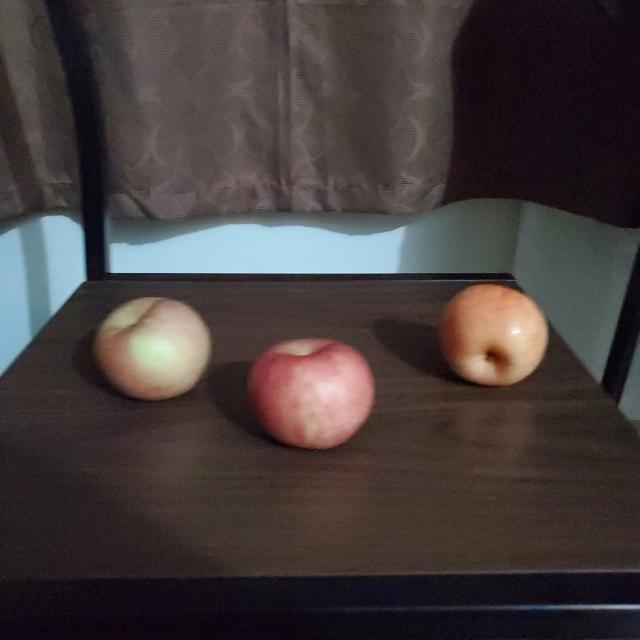apple: (248, 339, 373, 448), (94, 298, 211, 400), (441, 286, 548, 387)
